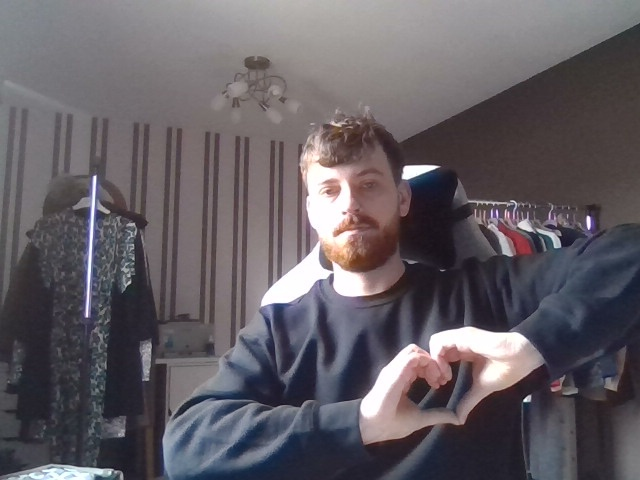Love: (348, 305, 555, 453)
